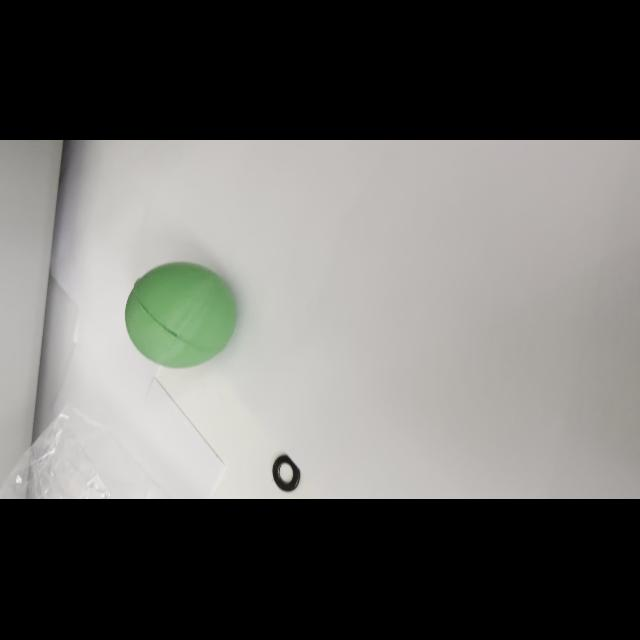objects: (122, 258, 240, 372)
